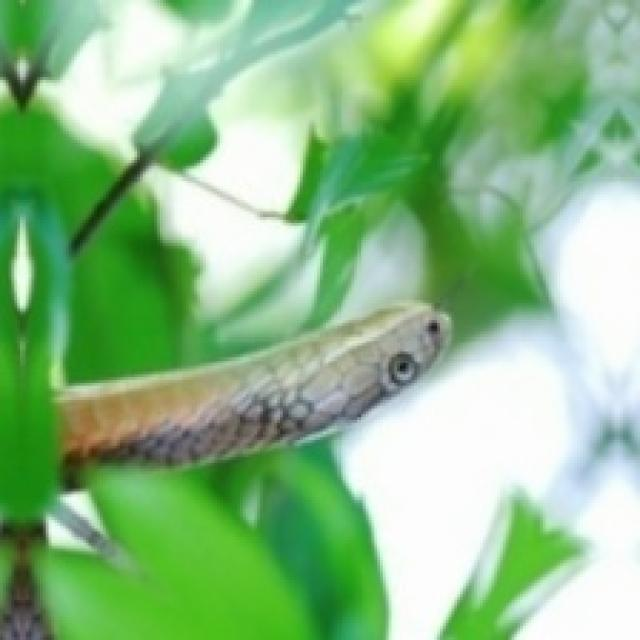king cobra: (57, 303, 449, 477)
